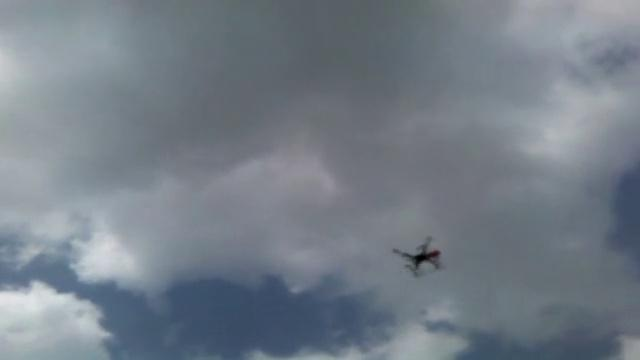drone: (389, 232, 446, 279)
